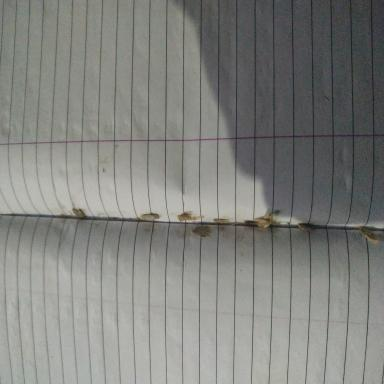pbw: (253, 213, 281, 227), (177, 211, 205, 222), (360, 228, 378, 242), (192, 225, 210, 238), (298, 223, 316, 231), (140, 214, 160, 220), (72, 208, 85, 217), (213, 219, 228, 224)
